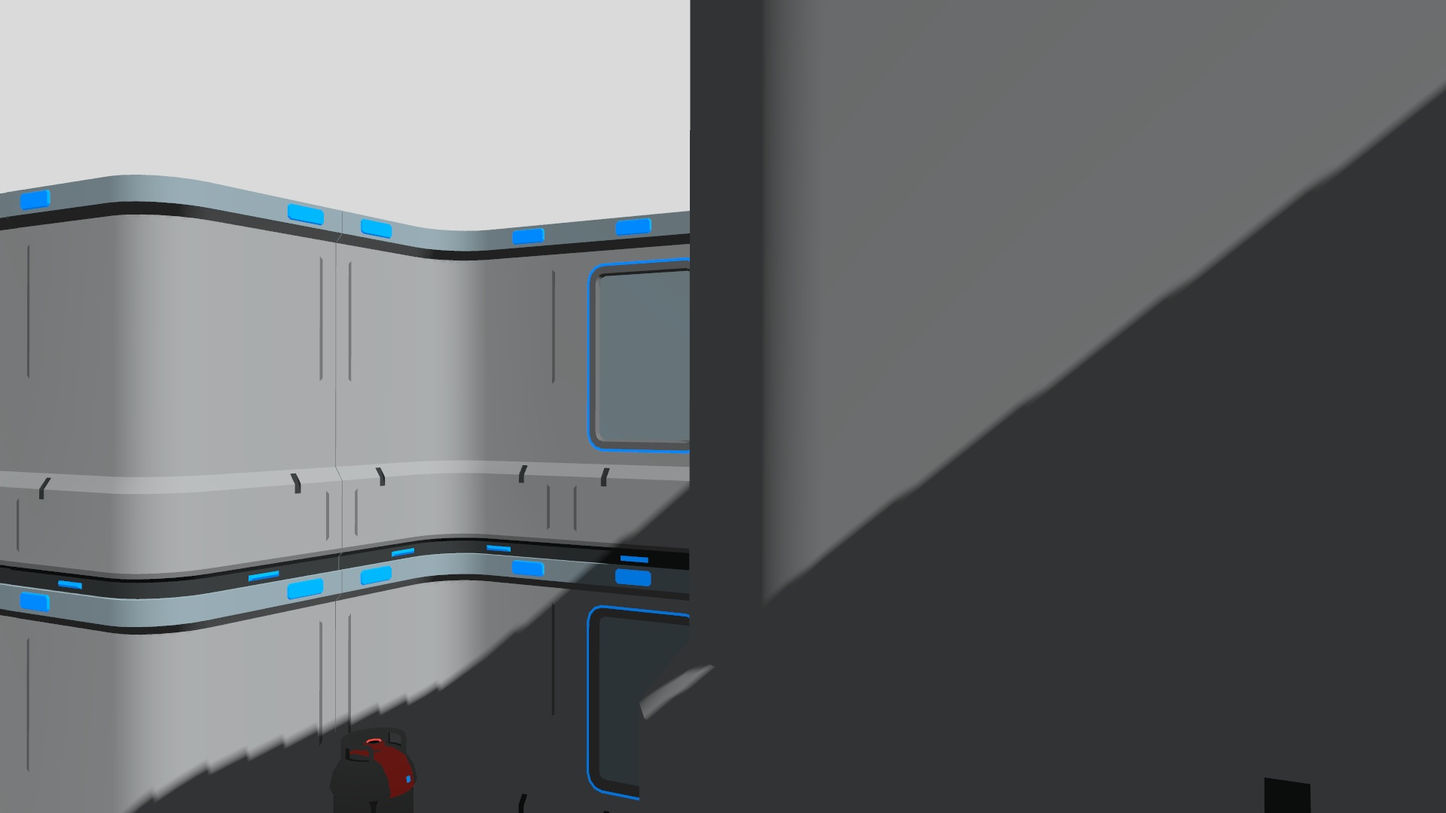red_barrel: (331, 730, 423, 813)
